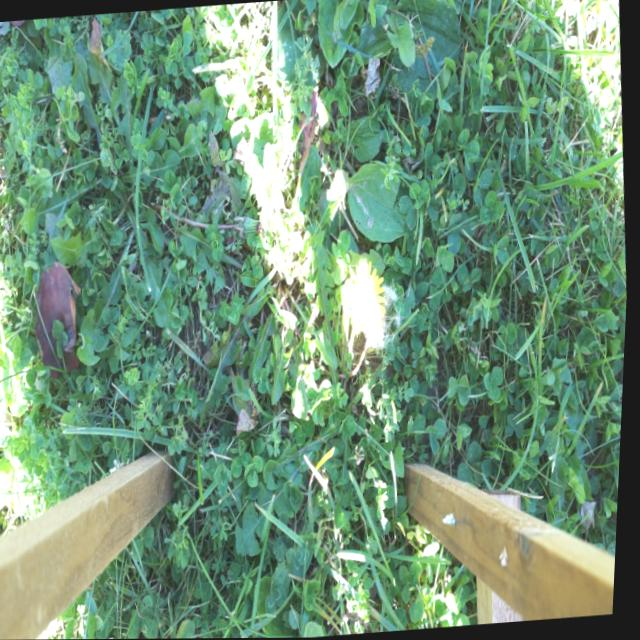base: (278, 278, 299, 313)
